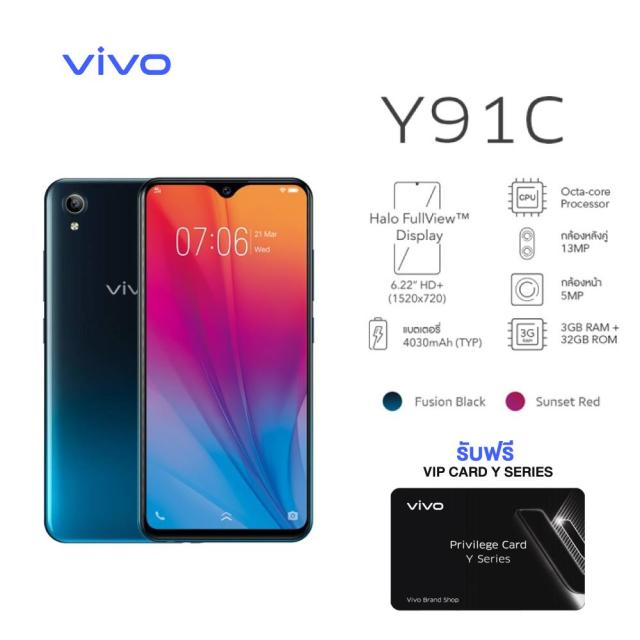Phone: (137, 177, 317, 543), (41, 177, 150, 546)
